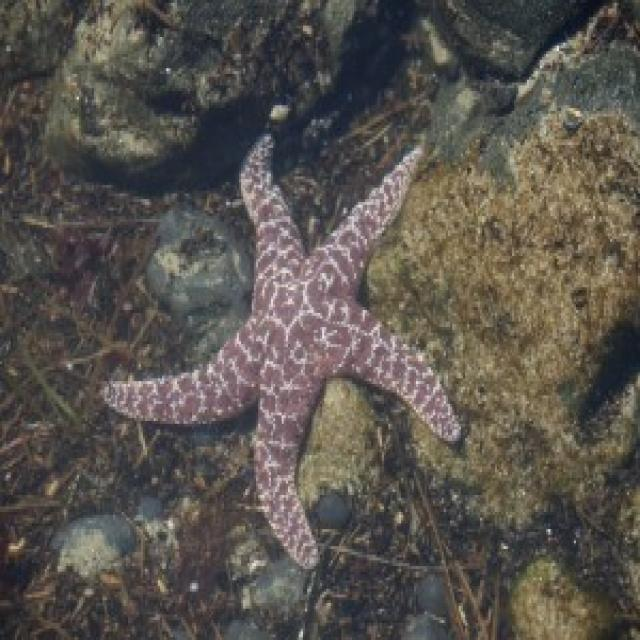Starfish: (99, 113, 467, 566)
